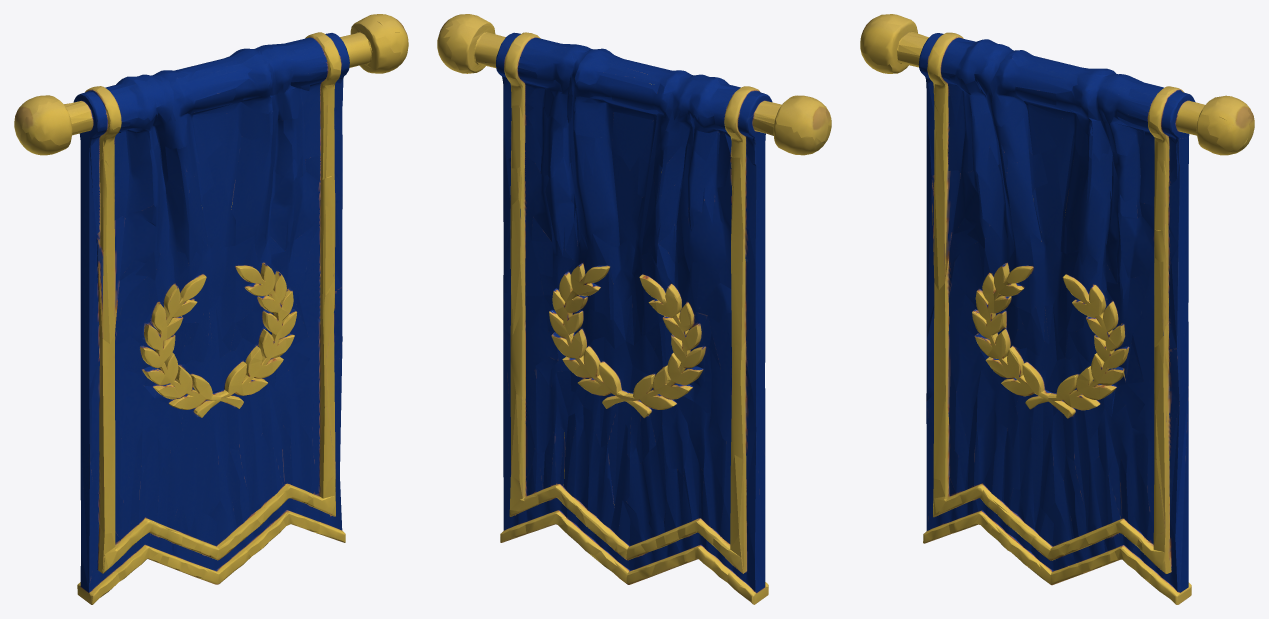
The model's file is banner_blue.glb.
The picture shows the model from 3 angles, left to right: view 1: azimuth 30°, elevation 25°; view 2: azimuth 150°, elevation 25°; view 3: azimuth 330°, elevation 25°; orthographic projection.
Bounding box in the file's own units: 1.46 × 1.9 × 0.2121.
Materials: 1 (1 with a texture image).
